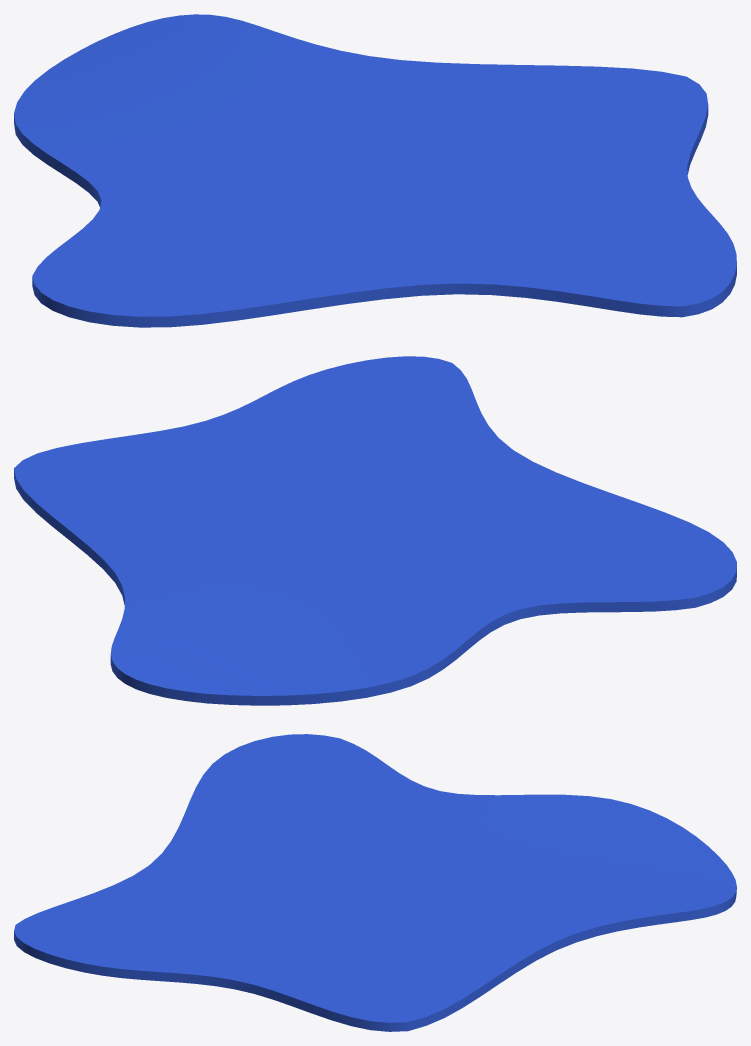
File: charcoazul.fbx
3 views of the same model, one above another, from view 1: azimuth 30°, elevation 25°; view 2: azimuth 150°, elevation 25°; view 3: azimuth 270°, elevation 25° (orthographic). The views are drawn at different scales.
Visible parts, largest first — view 1: Plane; view 2: Plane; view 3: Plane.
Part boxes in pixels (left/top/right/bottom): Plane: left=14, top=14, right=736, bottom=327; Plane: left=14, top=356, right=736, bottom=705; Plane: left=14, top=734, right=736, bottom=1031.
Size of the model in its own units: 205 by 4.91 by 217.
